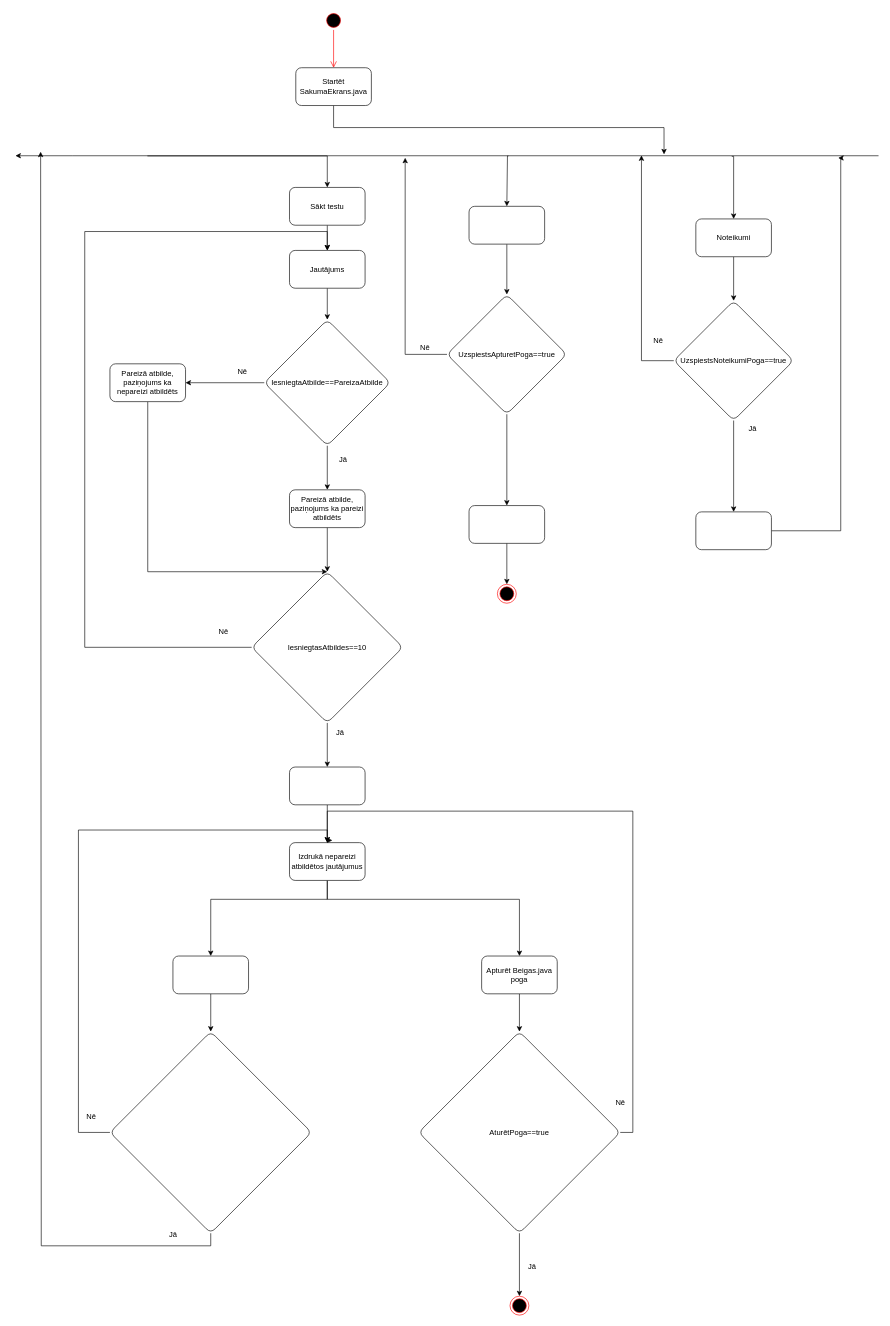
This 890x1326 diagram has some shape labels left out. The centre of each missing label's shape, as x and y in pixels:
"Apturēt SakumaEkrans.java" belongs at pixel 506 225.
"Izdrukā noteikumus" belongs at pixel 733 530.
"Izdrukā punktus" belongs at pixel 327 785.
"SakumaEkrans.java apturēts" belongs at pixel 506 524.
"SākumaPoga==true" belongs at pixel 210 1132.
"Uz sākumu poga" belongs at pixel 210 974.
